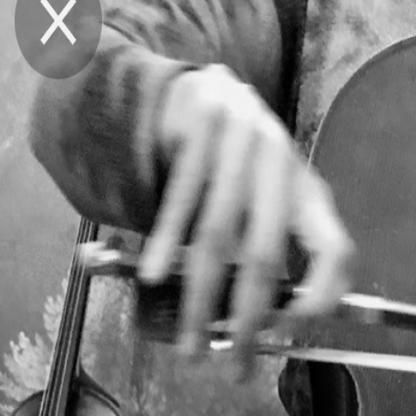bad: (139, 44, 361, 382)
